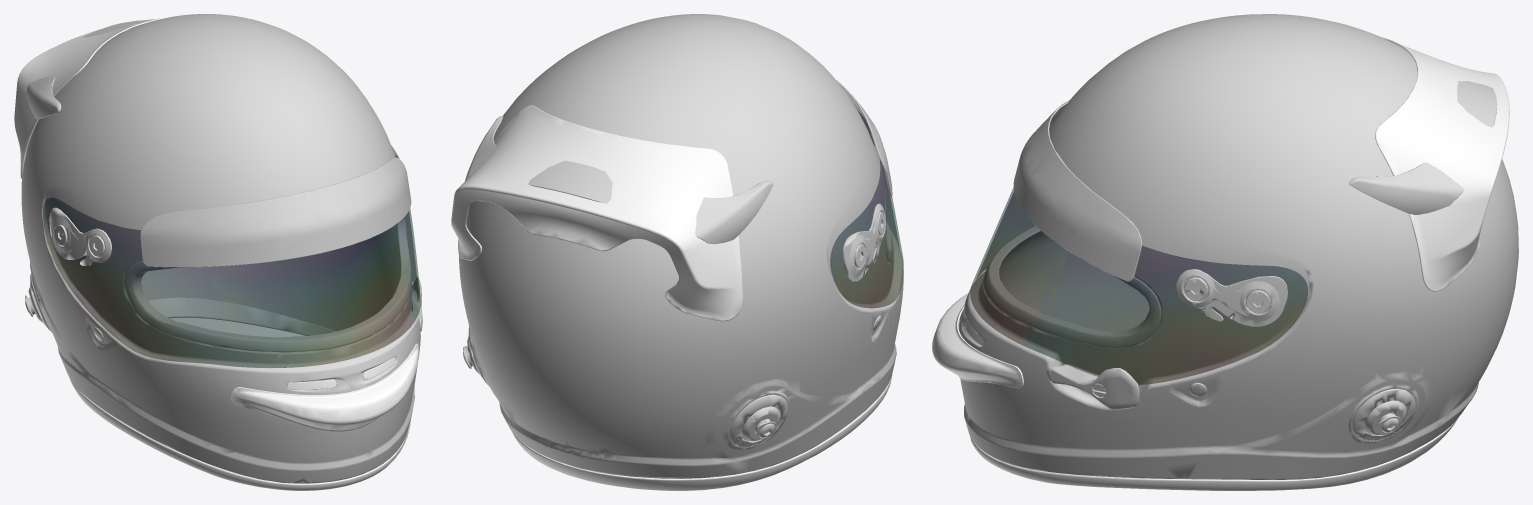
Rendered from helmet.glb.
3 views of the same model, side by side, from view 1: azimuth 30°, elevation 25°; view 2: azimuth 150°, elevation 25°; view 3: azimuth 270°, elevation 25° (orthographic). The views are drawn at different scales.
Visible parts, largest first — view 1: INTERNO, Compound.026, ALETTA1, Compound.006, Compound.015; view 2: INTERNO, ALETTA1, Compound.026, Compound.006; view 3: INTERNO, Compound.026, ALETTA1, Compound.006.
Part boxes in pixels (x1,y1,x2,y2): INTERNO: (21,14,422,483); Compound.026: (43,145,421,367); ALETTA1: (14,16,419,432); Compound.006: (69,297,410,490); Compound.015: (287,357,395,389); INTERNO: (459,14,903,478); ALETTA1: (451,105,742,321); Compound.026: (830,111,903,308); Compound.006: (512,375,892,490); INTERNO: (958,14,1518,479); Compound.026: (970,188,1307,384); ALETTA1: (932,37,1509,388); Compound.006: (969,418,1457,490).
Size of the model in its own units: 0.0531 by 0.0558 by 0.073.
5 materials, 1 textured.
